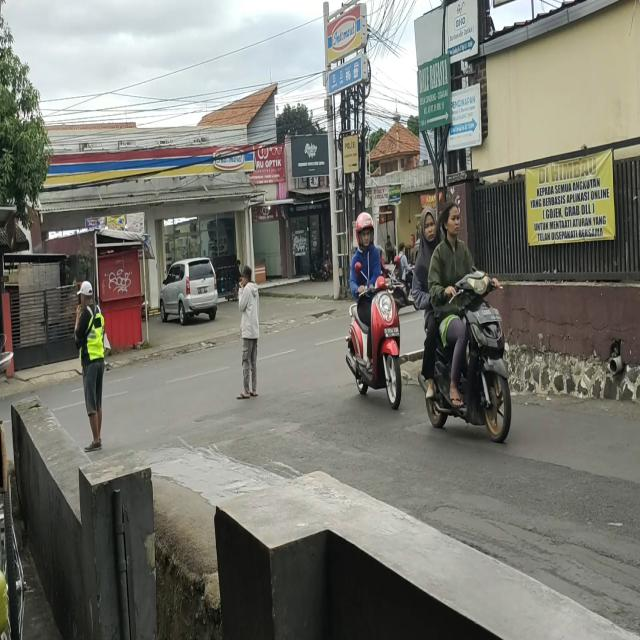helmet: (354, 211, 375, 249)
no-helmet: (419, 208, 440, 248), (441, 204, 460, 240)
